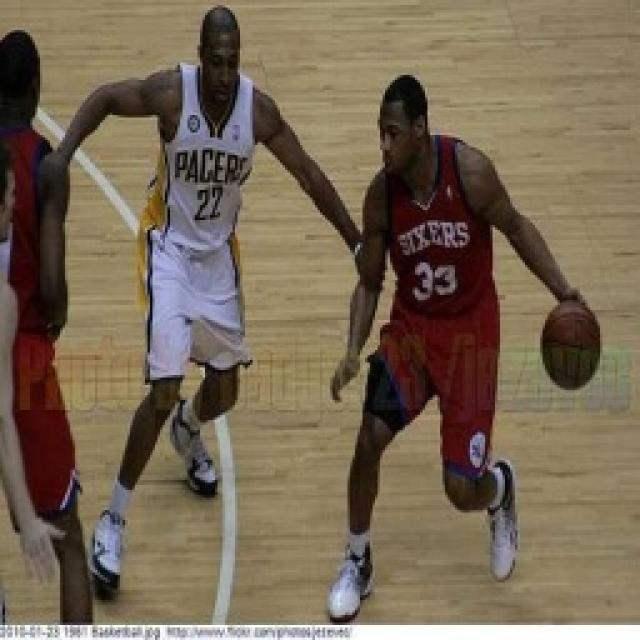rim: (534, 294, 612, 398)
